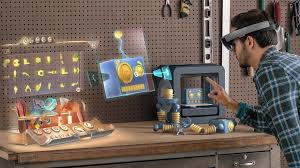hololens: (222, 19, 284, 52)
